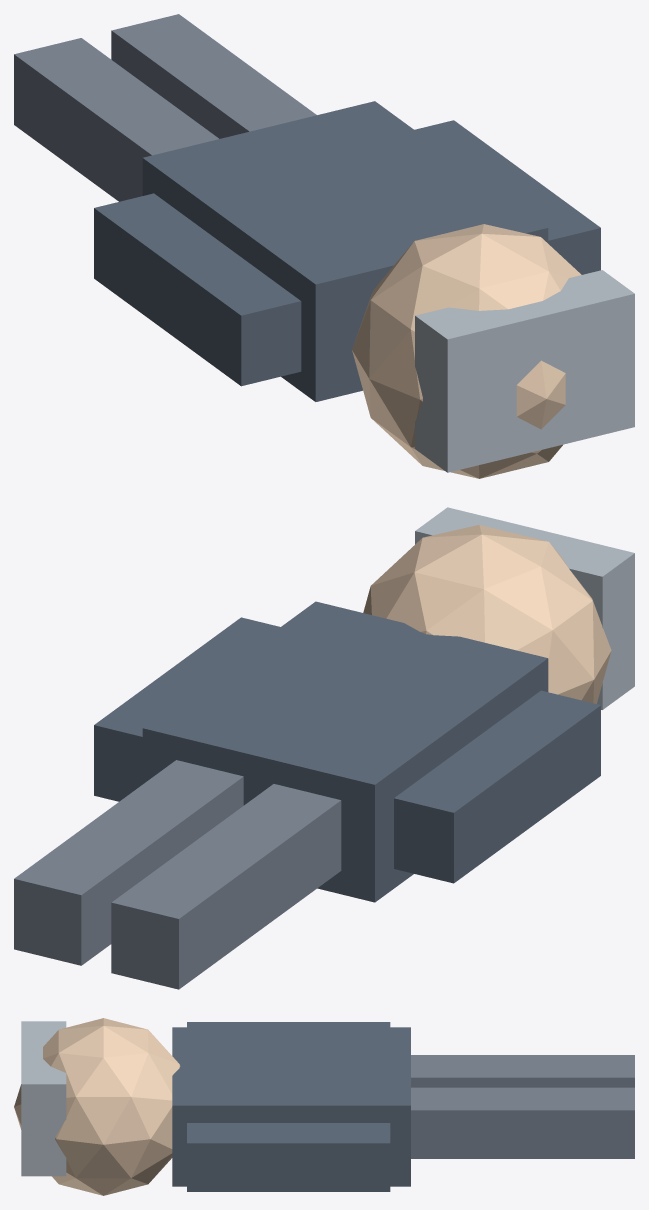
File: ceo_variant_5.glb
3 renders of one model, top to bottom at view 1: azimuth 30°, elevation 25°; view 2: azimuth 150°, elevation 25°; view 3: azimuth 270°, elevation 25°, orthographic. The views are drawn at different scales.
Parts seen in each view (by area): view 1: torso_2, hair_6, head_5, arm_l_3, leg_l_0, leg_r_1, arm_r_4; view 2: torso_2, leg_l_0, head_5, arm_l_3, leg_r_1, arm_r_4, hair_6; view 3: torso_2, head_5, leg_r_1, arm_r_4, leg_l_0, hair_6, arm_l_3.
Part boxes in pixels (left/top/right/bottom): torso_2: left=142, top=101, right=548, bottom=401; hair_6: left=415, top=270, right=634, bottom=472; head_5: left=352, top=224, right=581, bottom=478; arm_l_3: left=94, top=193, right=301, bottom=386; leg_l_0: left=14, top=38, right=218, bottom=201; leg_r_1: left=111, top=14, right=316, bottom=138; arm_r_4: left=414, top=120, right=600, bottom=274; torso_2: left=142, top=601, right=548, bottom=902; leg_l_0: left=111, top=784, right=341, bottom=989; head_5: left=363, top=524, right=611, bottom=703; arm_l_3: left=394, top=690, right=600, bottom=883; leg_r_1: left=14, top=760, right=243, bottom=965; arm_r_4: left=94, top=617, right=280, bottom=801; hair_6: left=415, top=507, right=634, bottom=709; torso_2: left=172, top=1027, right=410, bottom=1186; head_5: left=14, top=1018, right=180, bottom=1195; leg_r_1: left=411, top=1087, right=634, bottom=1158; arm_r_4: left=187, top=1123, right=390, bottom=1191; leg_l_0: left=411, top=1055, right=634, bottom=1087; hair_6: left=21, top=1021, right=66, bottom=1176; arm_l_3: left=187, top=1022, right=390, bottom=1027.
Size of the model in its own units: 0.96 by 0.6 by 2.08.
